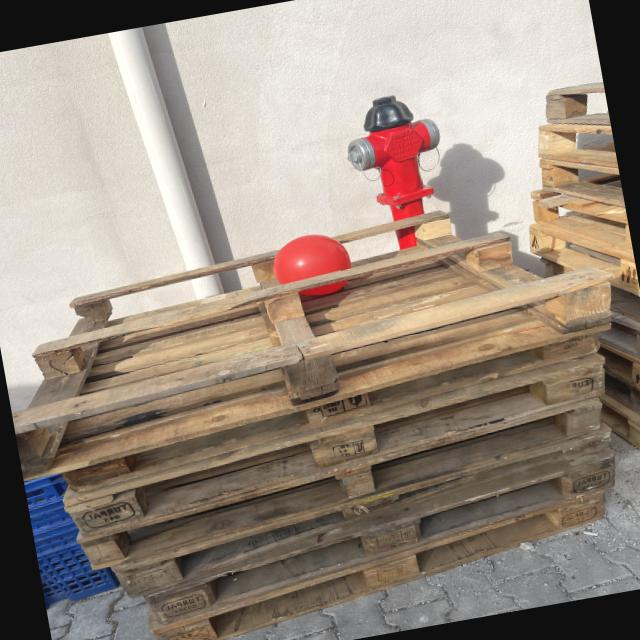balloon: (273, 234, 351, 283), (300, 280, 346, 295)
